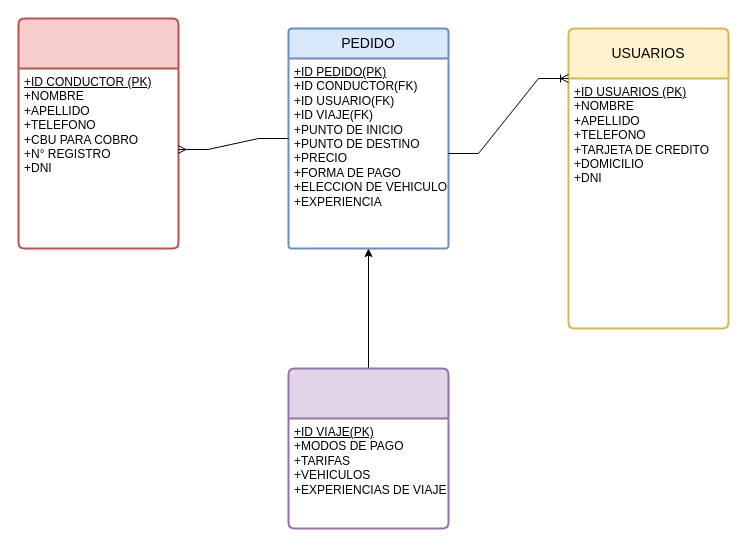
Some shapes in this 746 by 546 pixel diagram are drawn without their labels. Each missing label, with the box of its shape:
CONDUCTORES: (17, 17, 179, 249)
VIAJES: (287, 367, 449, 529)
